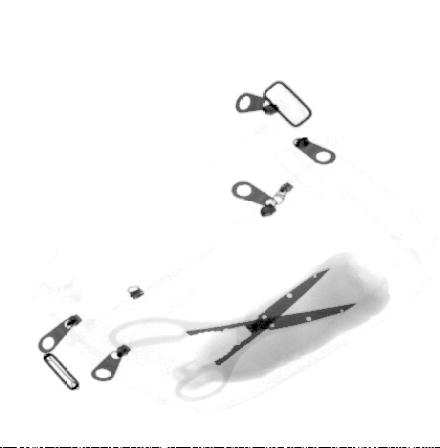Scissors: (108, 269, 360, 404)
